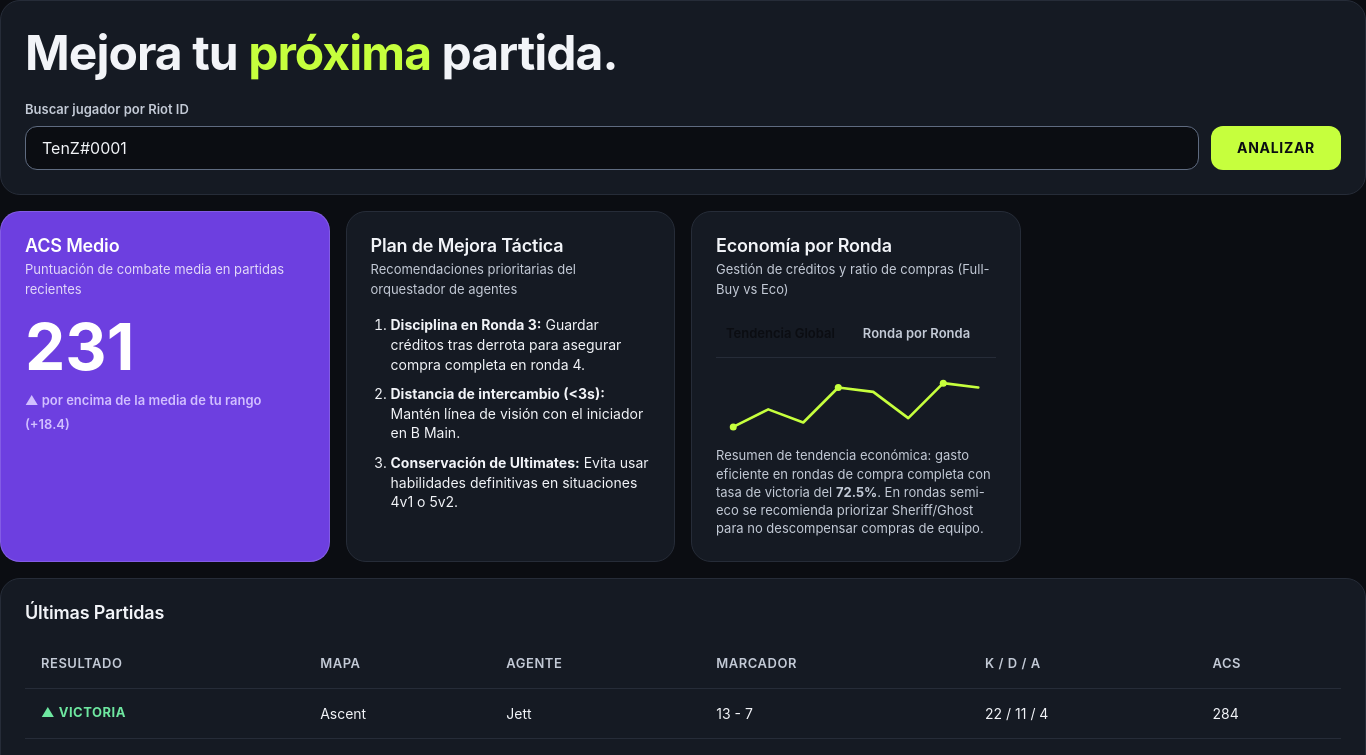
Test case: SummaryComponent › should switch economy chart view between trend and round-by-round
Click the tab with id "tab-econ-rounds".
click(916, 333)  # box 853,315 -> 980,351
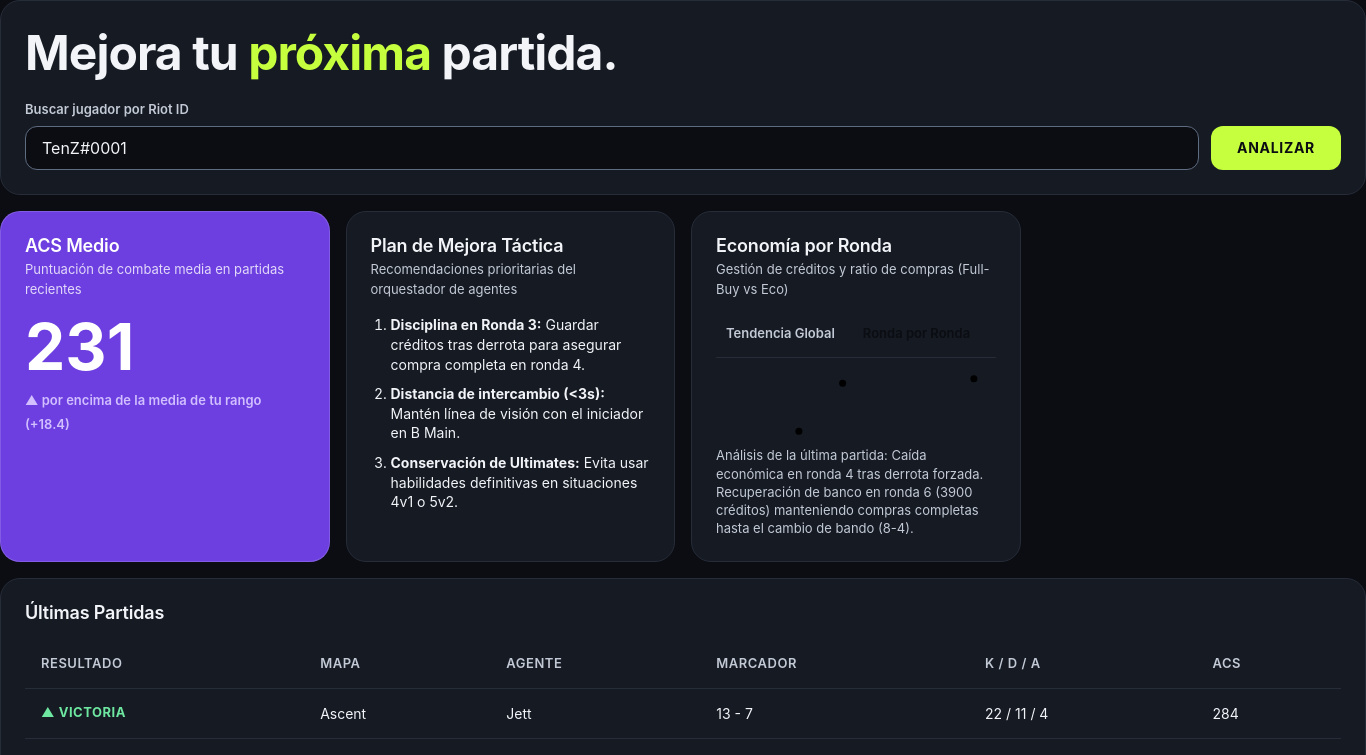
Expected: the text with id "econ-rounds-desc" is shown, 716,446 -> 996,537
